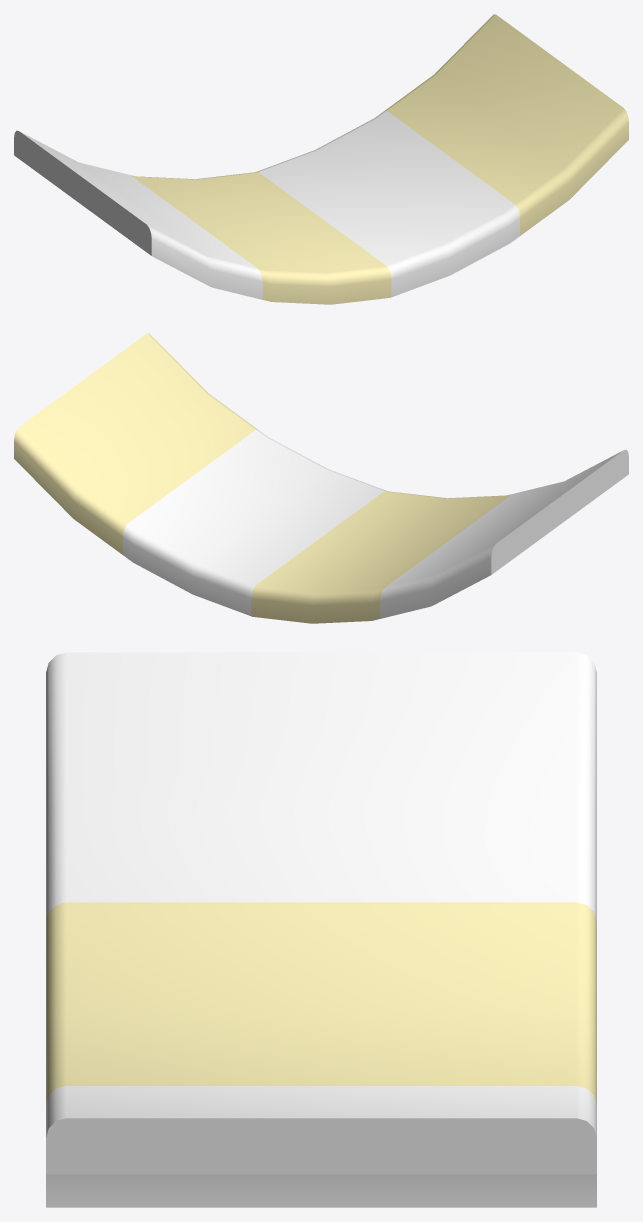
File: RoadDown_yellow.fbx
3 renders of one model, top to bottom at view 1: azimuth 30°, elevation 25°; view 2: azimuth 150°, elevation 25°; view 3: azimuth 270°, elevation 25°, orthographic. The views are drawn at different scales.
Parts seen in each view (by area): view 1: RoadDown_yellow; view 2: RoadDown_yellow; view 3: RoadDown_yellow.
Boxes of the visible parts, x1,y1,x2,y2 form: RoadDown_yellow: (14, 14, 628, 304); RoadDown_yellow: (14, 333, 628, 623); RoadDown_yellow: (46, 652, 596, 1207).
Bounding box in the file's own units: 600 × 154 × 300.
1 material, 1 textured.
